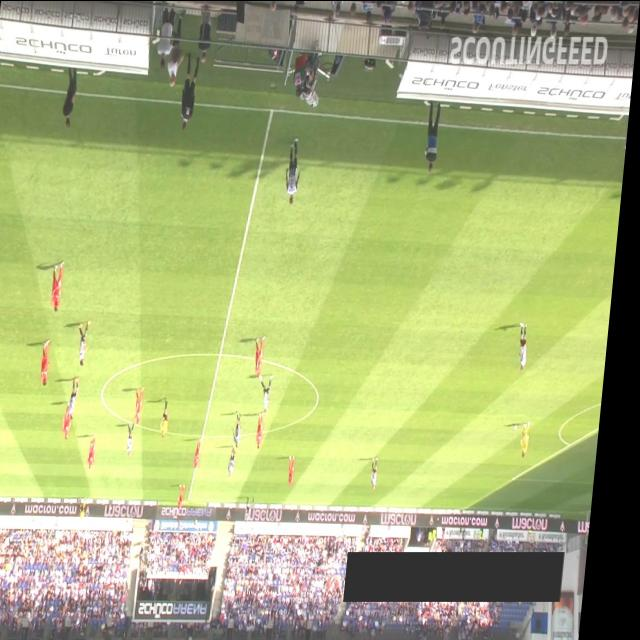goalkeeper: (527, 421, 539, 456)
player: (286, 136, 305, 204), (521, 321, 536, 371), (81, 320, 97, 366), (54, 260, 68, 312), (258, 335, 272, 381), (265, 374, 281, 414), (45, 338, 58, 386), (74, 375, 88, 419), (69, 402, 82, 439), (141, 386, 152, 426), (132, 422, 144, 456), (94, 433, 105, 469), (240, 412, 251, 448), (200, 434, 211, 470), (263, 411, 273, 449), (378, 456, 388, 490), (235, 445, 245, 477), (295, 454, 304, 486), (254, 495, 264, 523), (186, 482, 194, 510)
referee: (167, 397, 178, 437), (88, 498, 97, 522)
